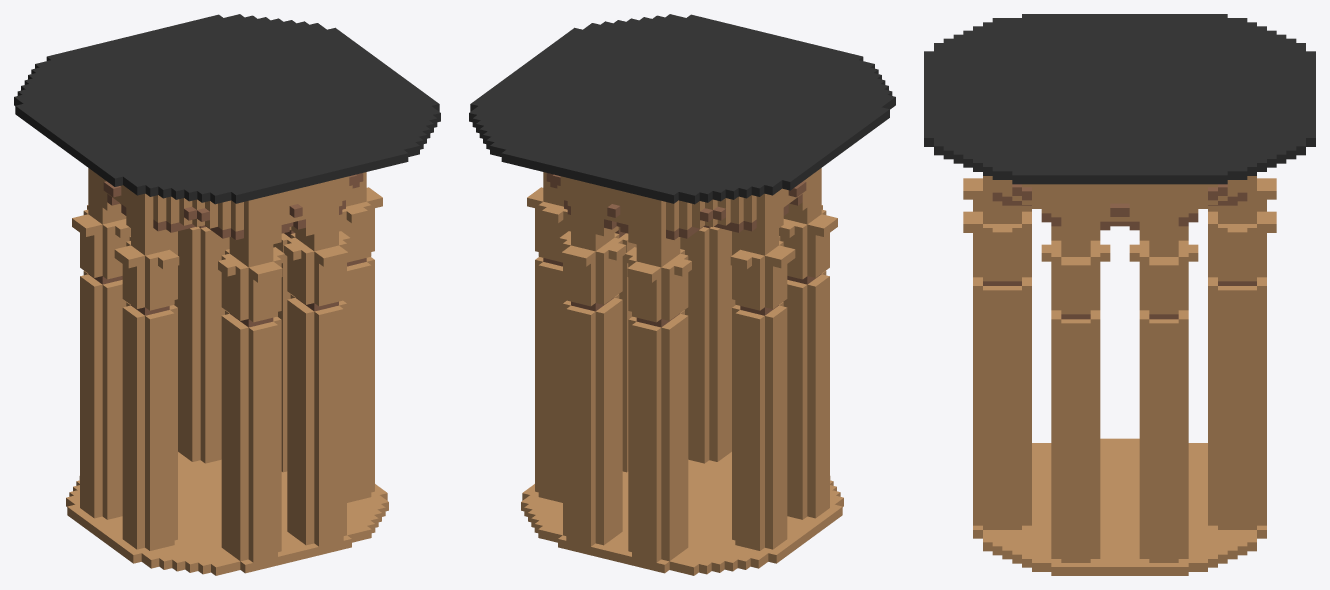
File: Pillar_lava_obj-3.obj
3 views of the same model, side by side, from view 1: azimuth 30°, elevation 25°; view 2: azimuth 150°, elevation 25°; view 3: azimuth 270°, elevation 25° (orthographic). The views are drawn at different scales.
Bounding box in the file's own units: 3.9 × 4.7 × 4.
Materials: 1 (1 with a texture image).
